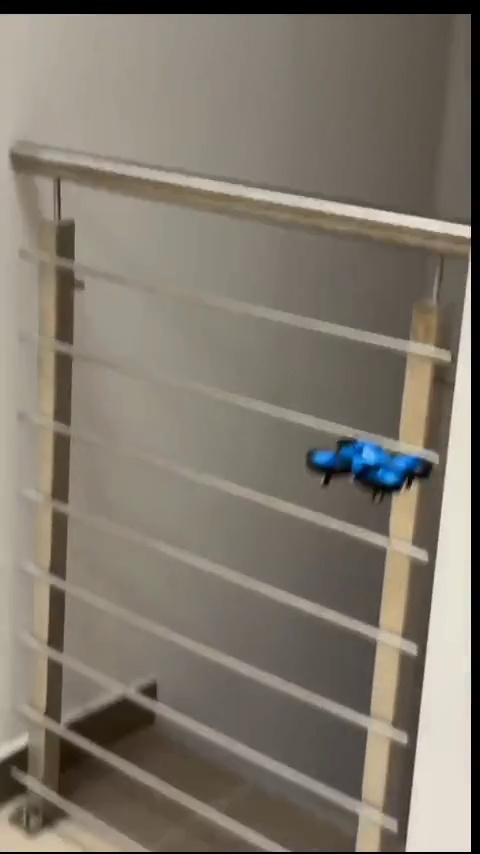drone: (313, 430, 427, 497)
